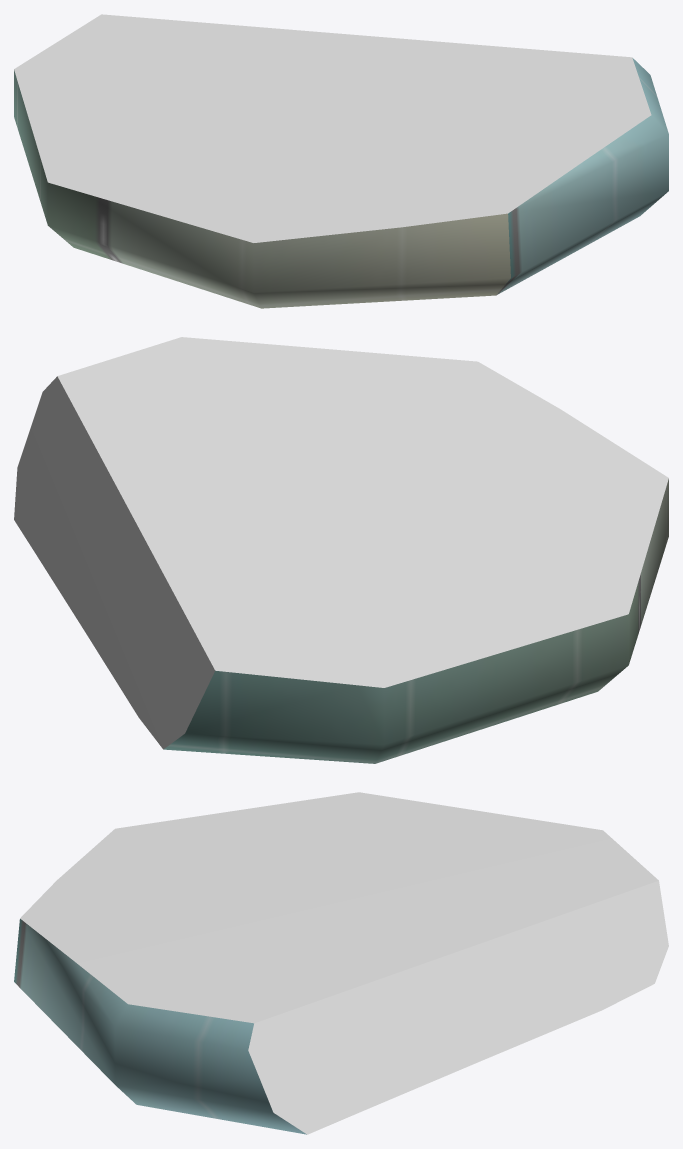
Rendered from SmallVase_SHAT_cell_005.fbx.
The picture shows the model from 3 angles, top to bottom: view 1: azimuth 30°, elevation 25°; view 2: azimuth 150°, elevation 25°; view 3: azimuth 270°, elevation 25°; orthographic projection. The views are drawn at different scales.
Visible parts, largest first — view 1: SmallVase_SHAT_cell_005; view 2: SmallVase_SHAT_cell_005; view 3: SmallVase_SHAT_cell_005.
Part boxes in pixels (left/top/right/bottom): SmallVase_SHAT_cell_005: left=14, top=14, right=668, bottom=308; SmallVase_SHAT_cell_005: left=14, top=337, right=668, bottom=763; SmallVase_SHAT_cell_005: left=14, top=792, right=668, bottom=1134.
Bounding box in the file's own units: 0.3644 × 0.0653 × 0.3646.
Materials: 2 (1 with a texture image).
